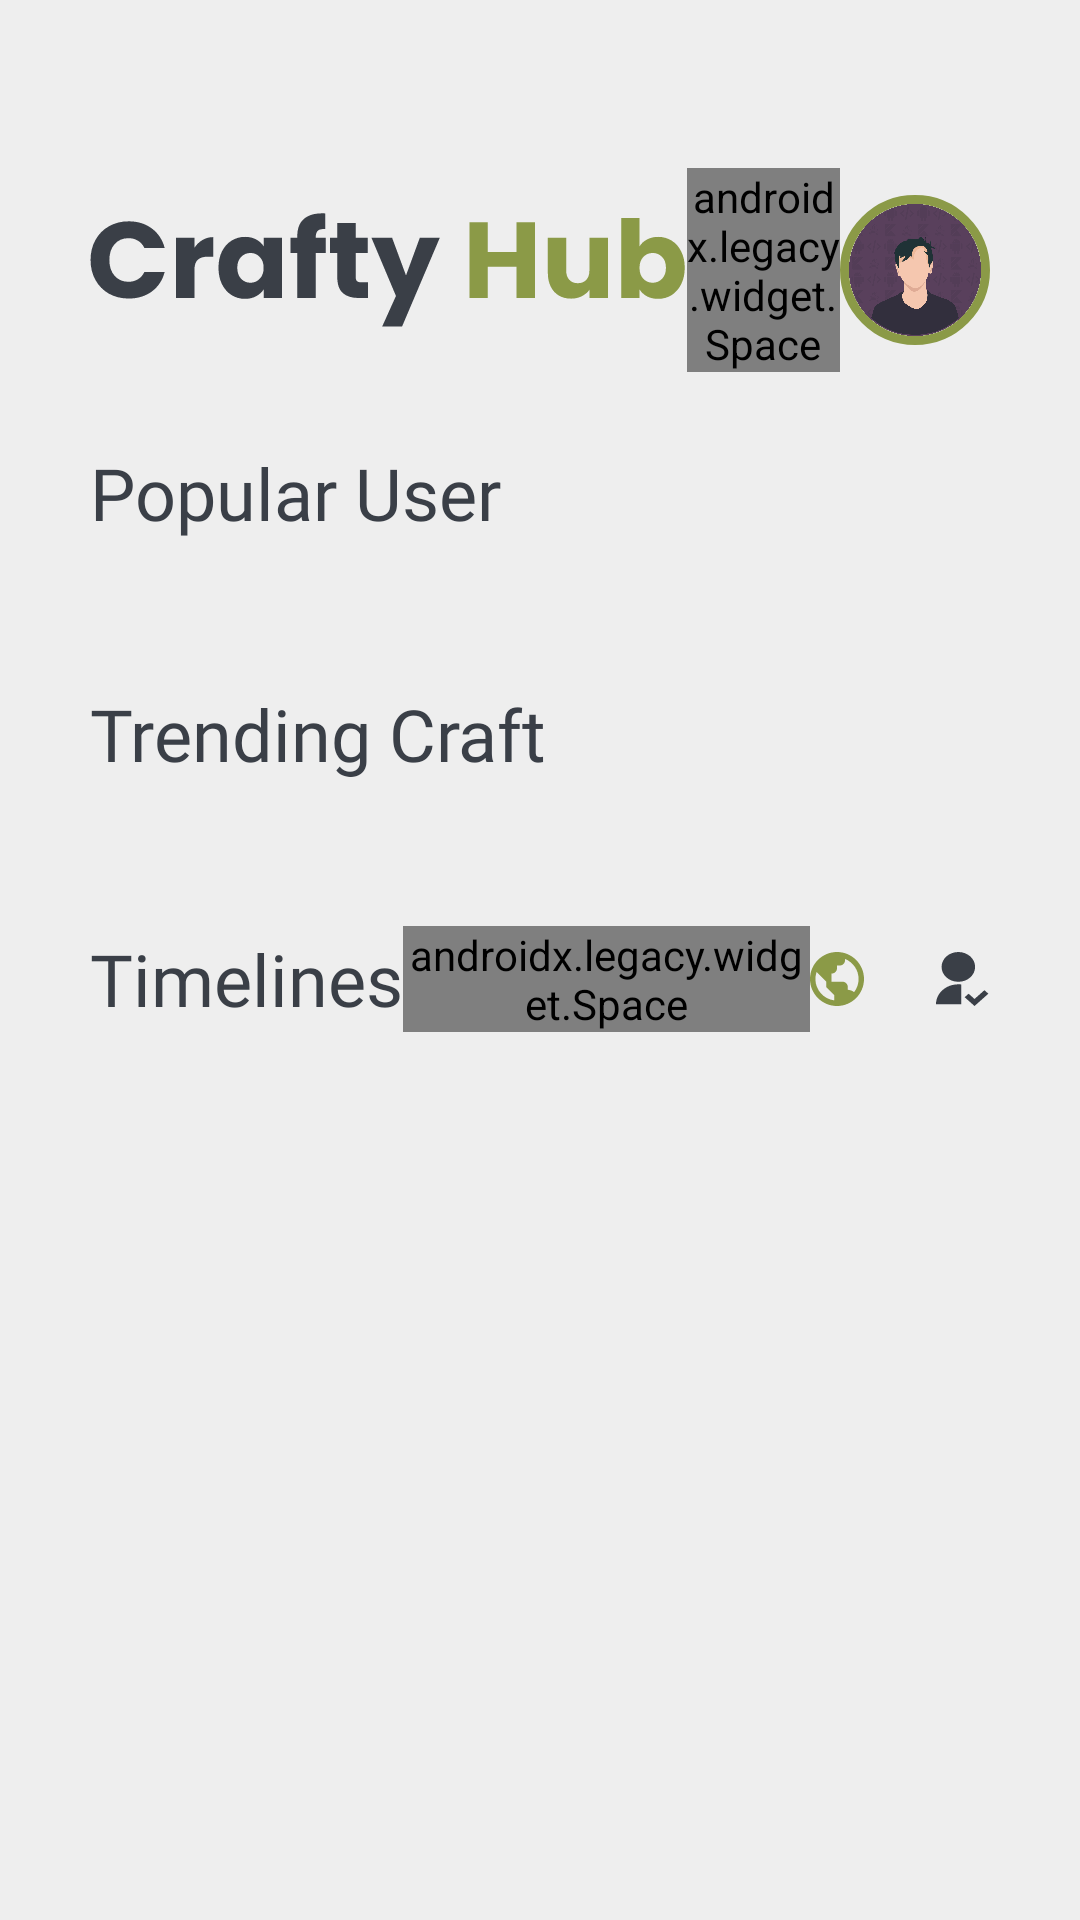

Icons on this 1080w x 1920h Android screen, each with its box as (x1, y1, x2, y2):
following: (936, 952, 988, 1006)
public: (810, 952, 864, 1006)
